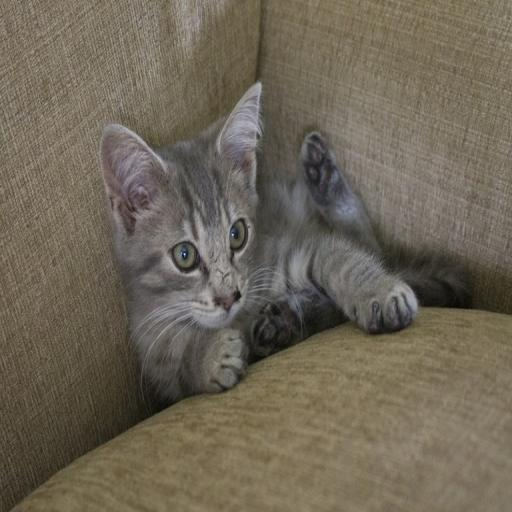cat: (99, 81, 471, 410)
